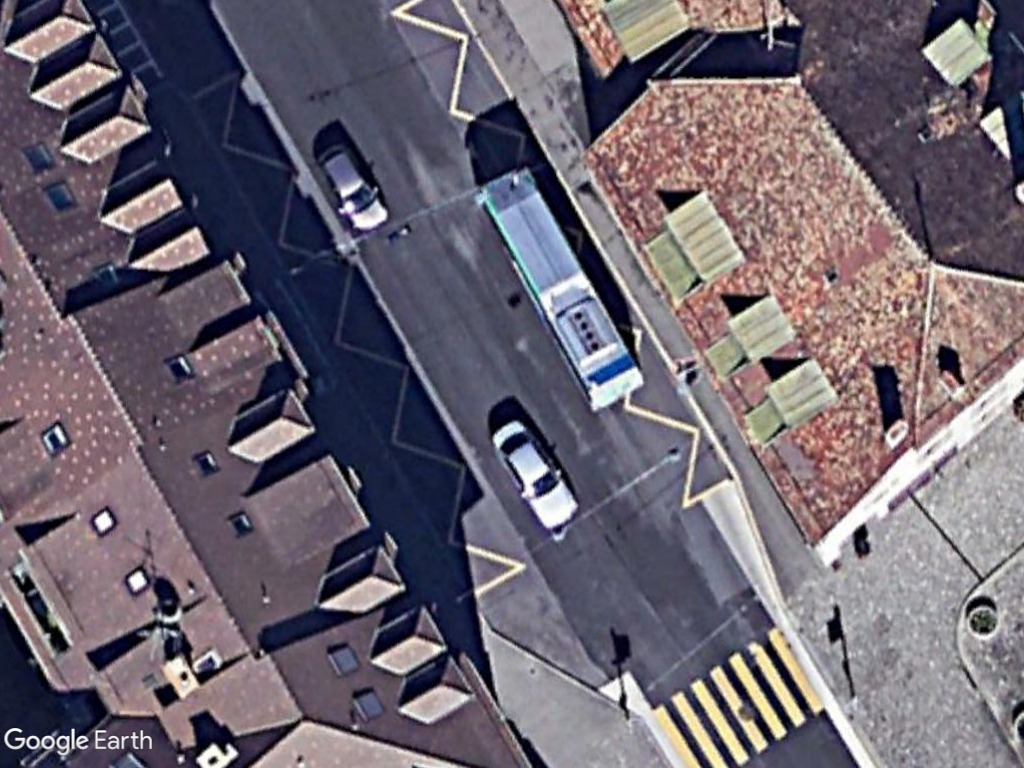bus: (478, 167, 647, 414)
car: (490, 416, 584, 532), (313, 141, 391, 235)
